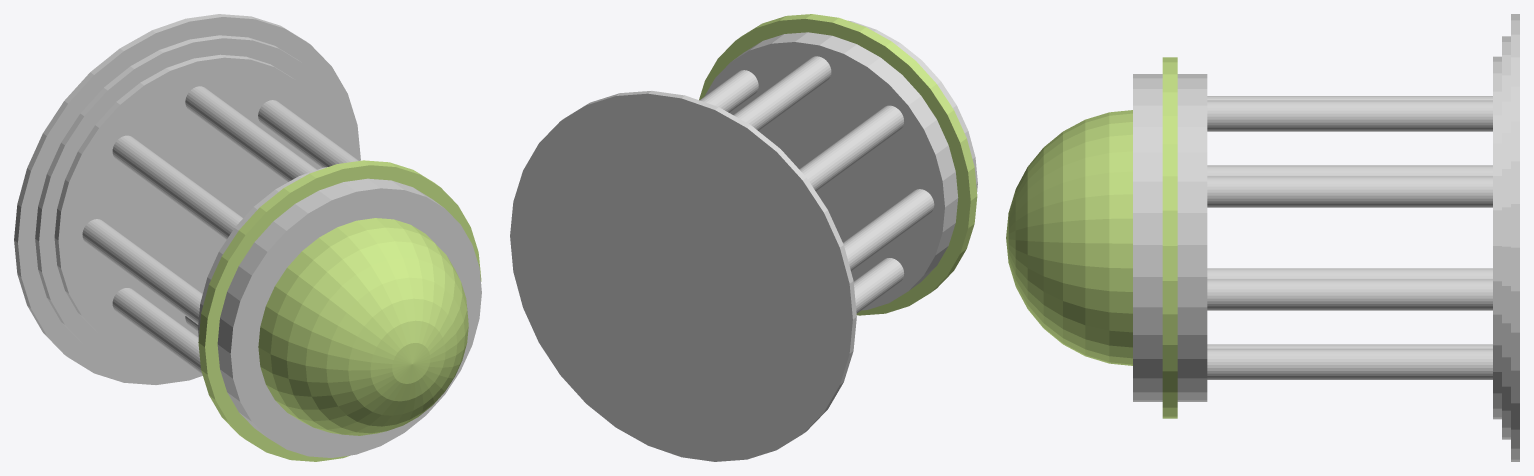
The model's file is rotunda.glb.
The picture shows the model from 3 angles, left to right: view 1: azimuth 30°, elevation 25°; view 2: azimuth 150°, elevation 25°; view 3: azimuth 270°, elevation 25°; orthographic projection. The views are drawn at different scales.
Visible parts, largest first — view 1: Sphere.002, Cylinder.008, Cylinder.010, Cylinder.009, Cylinder.006, Cylinder.007, Cylinder.011; view 2: Cylinder.006, Cylinder.010, Cylinder.009, Cylinder.011; view 3: Cylinder.009, Sphere.002, Cylinder.010, Cylinder.011, Cylinder.006, Cylinder.007, Cylinder.008.
Part boxes in pixels (<box>): Sphere.002: <box>258,218,468,435</box>; Cylinder.008: <box>54,54,331,355</box>; Cylinder.010: <box>198,167,481,457</box>; Cylinder.009: <box>82,86,358,374</box>; Cylinder.006: <box>14,14,360,384</box>; Cylinder.007: <box>35,35,346,369</box>; Cylinder.011: <box>198,160,481,461</box>; Cylinder.006: <box>510,91,856,461</box>; Cylinder.010: <box>704,20,977,310</box>; Cylinder.009: <box>699,56,934,313</box>; Cylinder.011: <box>699,14,977,315</box>; Cylinder.009: <box>1207,96,1492,379</box>; Sphere.002: <box>1006,110,1132,365</box>; Cylinder.010: <box>1133,74,1207,401</box>; Cylinder.011: <box>1162,57,1177,418</box>; Cylinder.006: <box>1511,14,1519,461</box>; Cylinder.007: <box>1502,36,1510,439</box>; Cylinder.008: <box>1493,56,1501,419</box>.
Size of the model in its own units: 10 by 10 by 11.46.
